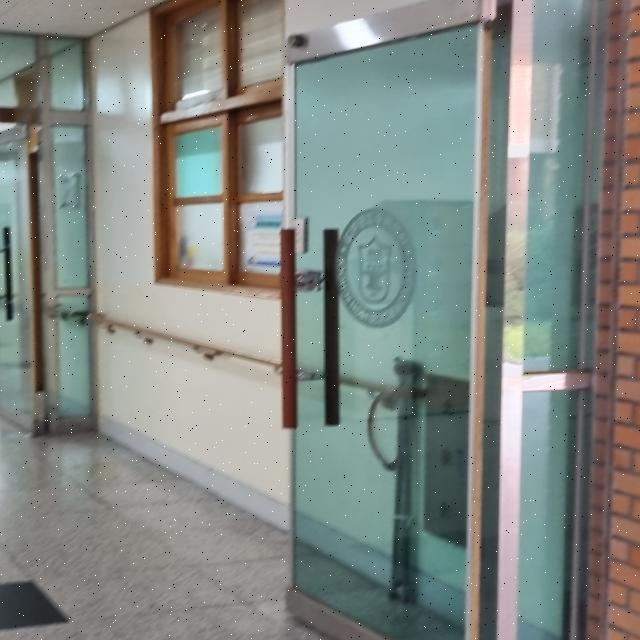logo: (326, 205, 423, 332)
